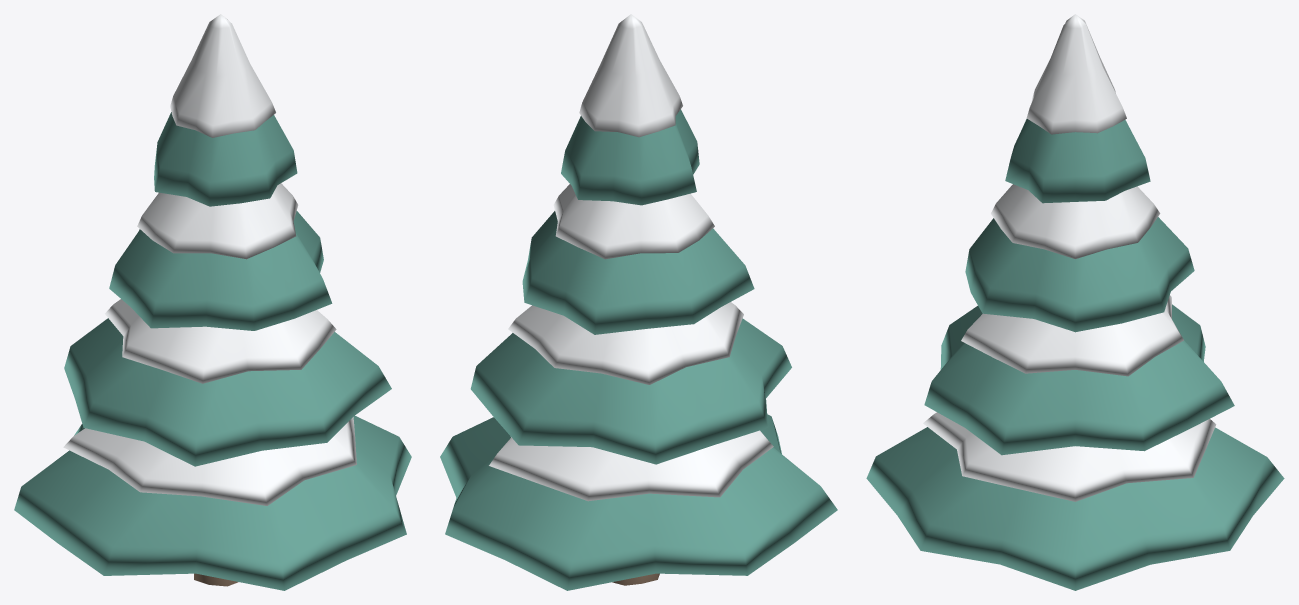
Rendered from SnowballSummitPine.glb.
The picture shows the model from 3 angles, left to right: view 1: azimuth 30°, elevation 25°; view 2: azimuth 150°, elevation 25°; view 3: azimuth 270°, elevation 25°; orthographic projection.
Parts seen in each view (by area): view 1: Needles, Snow; view 2: Needles, Snow; view 3: Needles, Snow.
Part boxes in pixels (box(x1,y1,x2,y2)): Needles: box(14, 112, 411, 590); Snow: box(63, 14, 356, 505); Needles: box(440, 109, 837, 590); Snow: box(489, 14, 773, 501); Needles: box(866, 119, 1284, 590); Snow: box(923, 14, 1216, 501).
Bounding box in the file's own units: 10.35 × 15.62 × 10.69.
